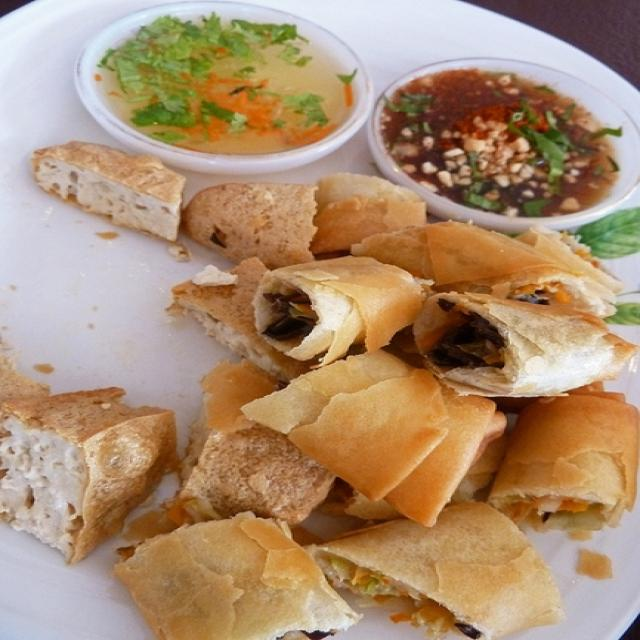炸货点心: (24, 139, 591, 621)
